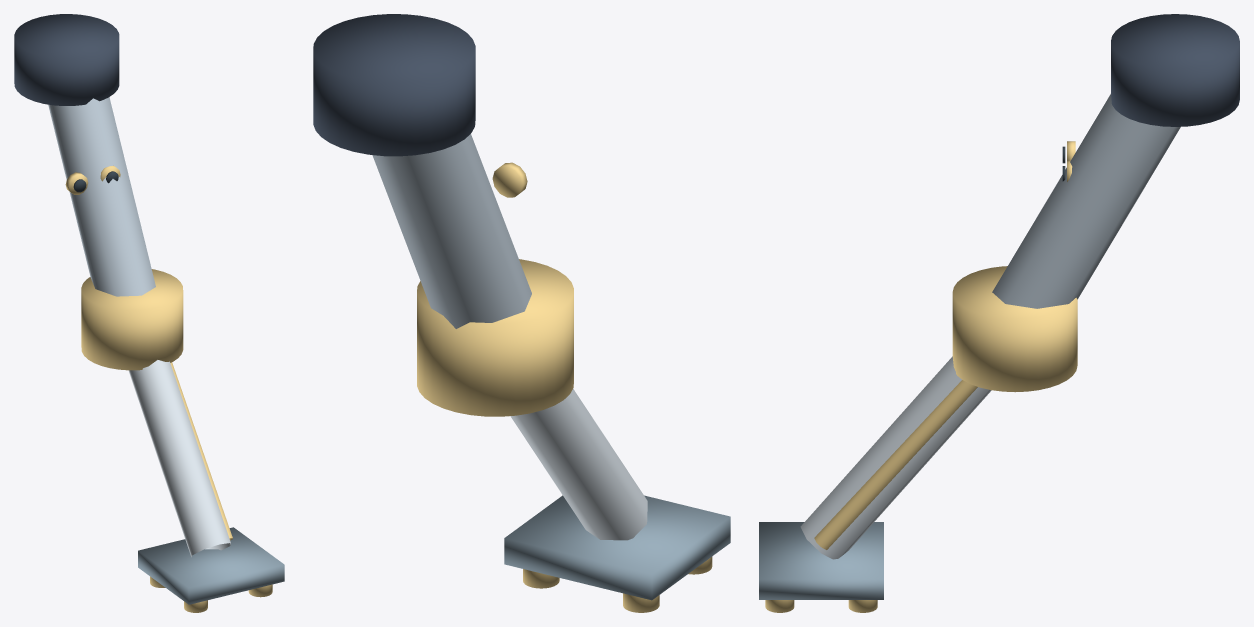
Rendered from 18_L92_ArticulatedLandingLegA.fbx.
3 views of the same model, side by side, from view 1: azimuth 30°, elevation 25°; view 2: azimuth 150°, elevation 25°; view 3: azimuth 270°, elevation 25° (orthographic). The views are drawn at different scales.
Visible parts, largest first — view 1: L92_ArticulatedLandingLegA_Part_0000, L92_ArticulatedLandingLegA_Part_0002, L92_ArticulatedLandingLegA_Part_0003, L92_ArticulatedLandingLegA_Part_0004, L92_ArticulatedLandingLegA_Part_0005, L92_ArticulatedLandingLegA_Part_0006; view 2: L92_ArticulatedLandingLegA_Part_0002, L92_ArticulatedLandingLegA_Part_0000, L92_ArticulatedLandingLegA_Part_0003, L92_ArticulatedLandingLegA_Part_0005, L92_ArticulatedLandingLegA_Part_0004, L92_ArticulatedLandingLegA_Part_0006, L92_ArticulatedLandingLegA_Part_0007; view 3: L92_ArticulatedLandingLegA_Part_0000, L92_ArticulatedLandingLegA_Part_0003, L92_ArticulatedLandingLegA_Part_0002, L92_ArticulatedLandingLegA_Part_0004, L92_ArticulatedLandingLegA_Part_0005, L92_ArticulatedLandingLegA_Part_0006.
Boxes of the visible parts, x1,y1,x2,y2 form: L92_ArticulatedLandingLegA_Part_0000: [48, 97, 155, 296]; L92_ArticulatedLandingLegA_Part_0002: [14, 14, 119, 105]; L92_ArticulatedLandingLegA_Part_0003: [81, 269, 232, 540]; L92_ArticulatedLandingLegA_Part_0004: [128, 360, 230, 557]; L92_ArticulatedLandingLegA_Part_0005: [138, 527, 284, 604]; L92_ArticulatedLandingLegA_Part_0006: [150, 576, 272, 612]; L92_ArticulatedLandingLegA_Part_0002: [313, 14, 475, 156]; L92_ArticulatedLandingLegA_Part_0000: [372, 134, 531, 328]; L92_ArticulatedLandingLegA_Part_0003: [417, 259, 573, 416]; L92_ArticulatedLandingLegA_Part_0005: [504, 495, 730, 600]; L92_ArticulatedLandingLegA_Part_0004: [510, 389, 647, 540]; L92_ArticulatedLandingLegA_Part_0006: [523, 556, 712, 612]; L92_ArticulatedLandingLegA_Part_0007: [492, 162, 527, 197]; L92_ArticulatedLandingLegA_Part_0000: [992, 94, 1180, 308]; L92_ArticulatedLandingLegA_Part_0003: [814, 266, 1077, 549]; L92_ArticulatedLandingLegA_Part_0002: [1111, 14, 1239, 126]; L92_ArticulatedLandingLegA_Part_0004: [800, 356, 991, 559]; L92_ArticulatedLandingLegA_Part_0005: [759, 522, 883, 599]; L92_ArticulatedLandingLegA_Part_0006: [765, 600, 877, 612].
Bounding box in the file's own units: 0.65 × 2.89 × 2.31.
